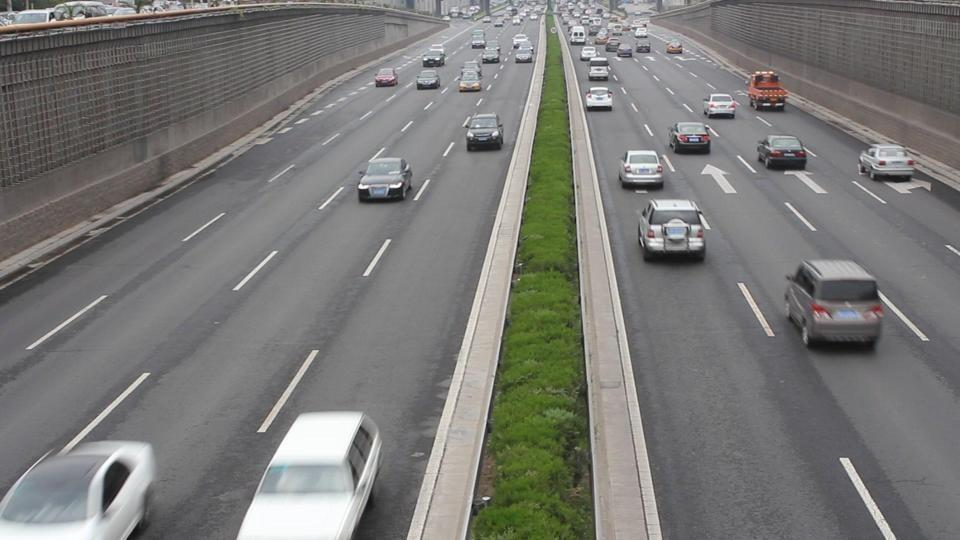car: (236, 409, 384, 539), (0, 440, 157, 538), (783, 258, 885, 351), (636, 197, 708, 263), (357, 156, 414, 203), (858, 145, 916, 181), (755, 134, 810, 170), (619, 149, 666, 190), (668, 121, 716, 155), (463, 113, 504, 152), (702, 92, 737, 119), (457, 62, 484, 93), (582, 87, 614, 111), (587, 58, 610, 83), (513, 37, 534, 63), (374, 68, 399, 87), (422, 48, 446, 67), (416, 71, 441, 89), (570, 27, 585, 45)
